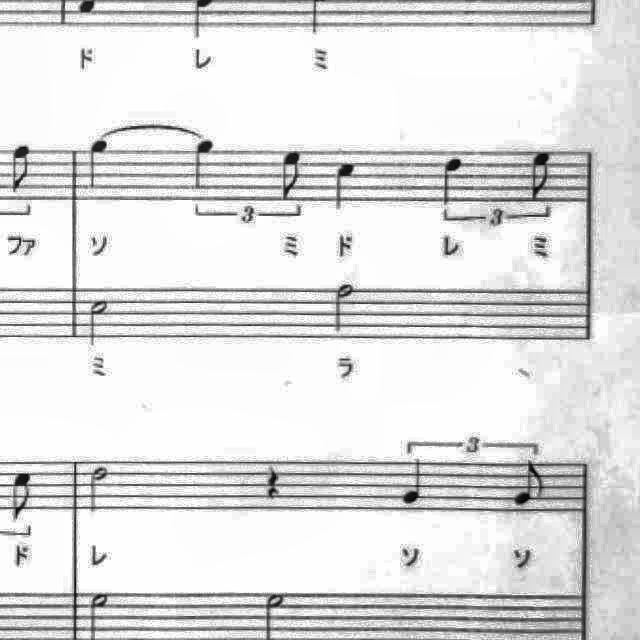Eighth-note: (508, 458, 552, 512), (1, 138, 39, 198), (4, 464, 40, 526), (522, 145, 558, 205), (274, 144, 310, 202)
Half-note: (328, 278, 362, 342), (83, 293, 119, 351), (83, 461, 117, 519)
Quarter-note: (185, 134, 222, 198), (328, 154, 364, 218), (82, 134, 118, 194), (395, 456, 433, 512), (436, 151, 472, 207)
Quarter-rest: (258, 460, 290, 508)
